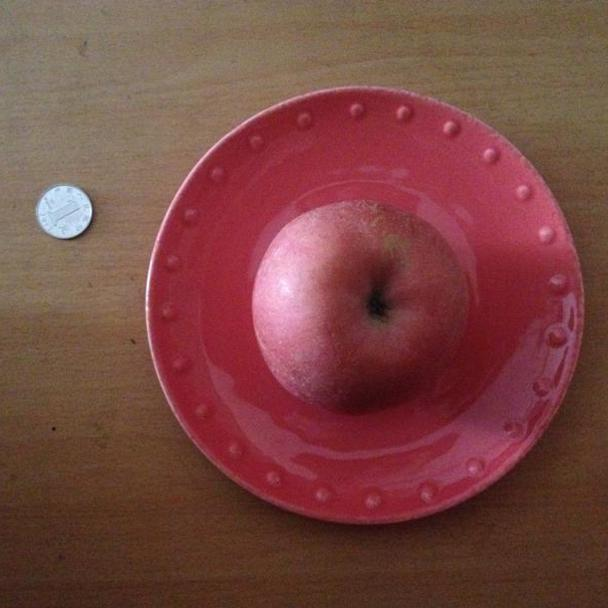apple: (249, 198, 484, 415)
